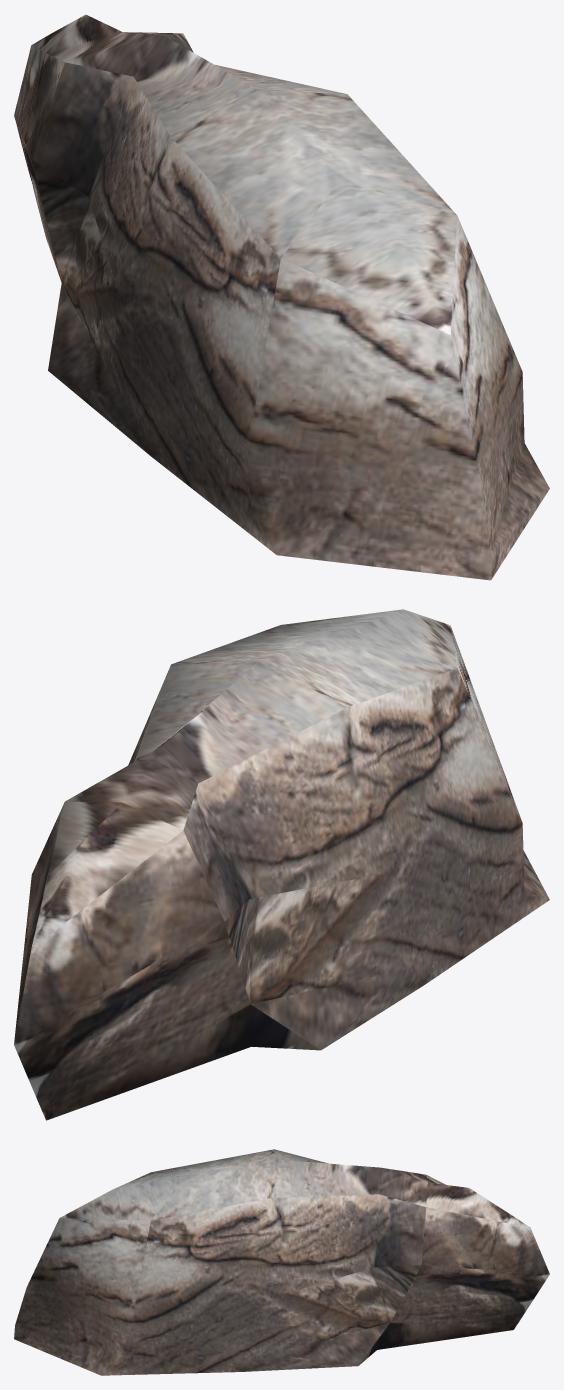
The model's file is gros caillou2.fbx.
3 renders of one model, top to bottom at view 1: azimuth 30°, elevation 25°; view 2: azimuth 150°, elevation 25°; view 3: azimuth 270°, elevation 25°, orthographic. The views are drawn at different scales.
Visible parts, largest first — view 1: Grand caillou 2; view 2: Grand caillou 2; view 3: Grand caillou 2.
Part boxes in pixels (x1,y1,x2,y2): Grand caillou 2: [14, 14, 549, 580]; Grand caillou 2: [14, 609, 549, 1120]; Grand caillou 2: [14, 1149, 549, 1375].
Size of the model in its own units: 23.98 by 26.86 by 72.56.
